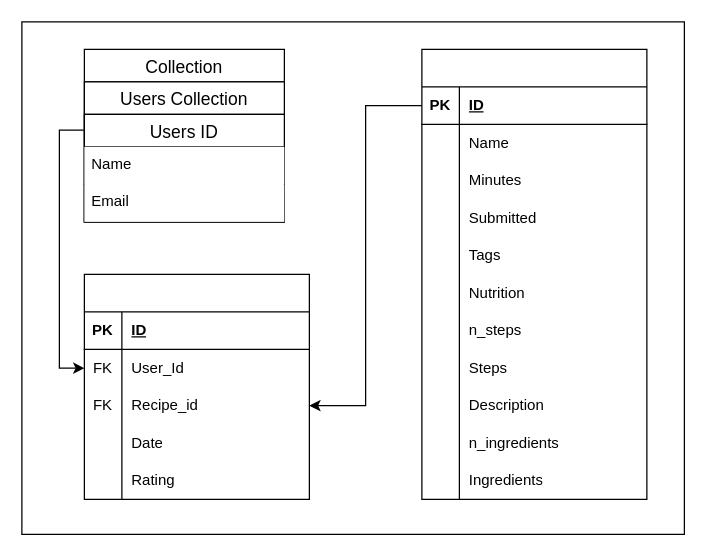
Image size: 706x556. Some labels were removed from this diagram. Each missing label, with the box of its shape:
Recipes: (421, 48, 647, 499)
User_recipe_ratings: (83, 273, 309, 499)
